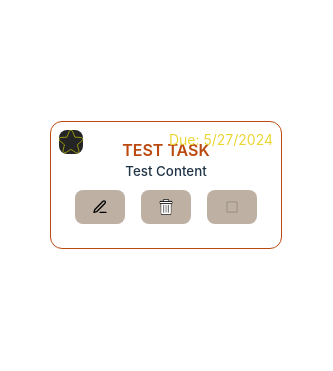
Scenario: Task Component › enters edit mode when edit button is clicked
Click the 2nd button with alt text "Edit Icon": (100, 207) [75, 190, 125, 224]
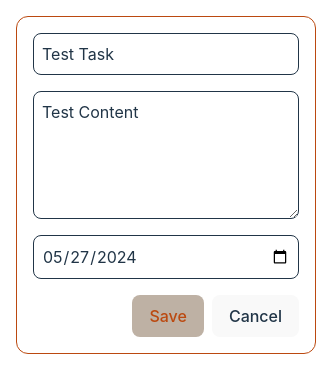
Now the field with placeholder "Name your task..." is shown, box [33, 33, 299, 75]
Now the text box with placeholder "Describe your task..." is shown, box [33, 91, 299, 219]
